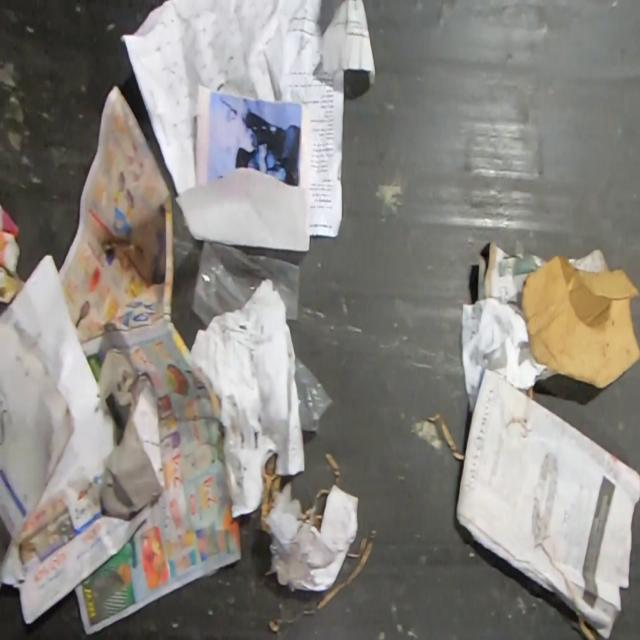cardboard: (519, 254, 640, 390)
soft_plastic: (188, 236, 303, 329), (293, 350, 336, 436)
